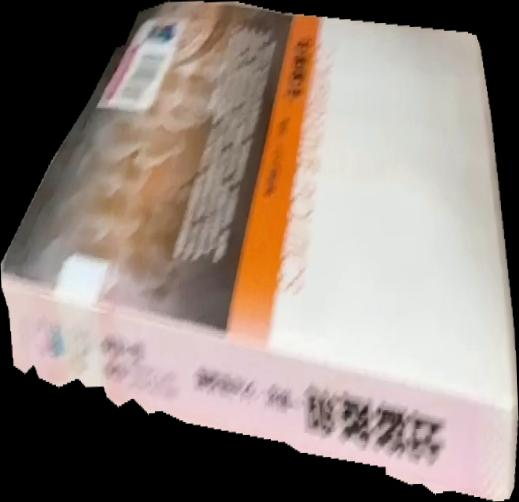flat: (1, 1, 519, 502)
